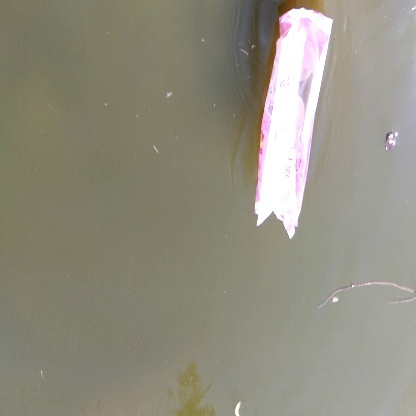plastic-bag: (247, 8, 334, 239)
